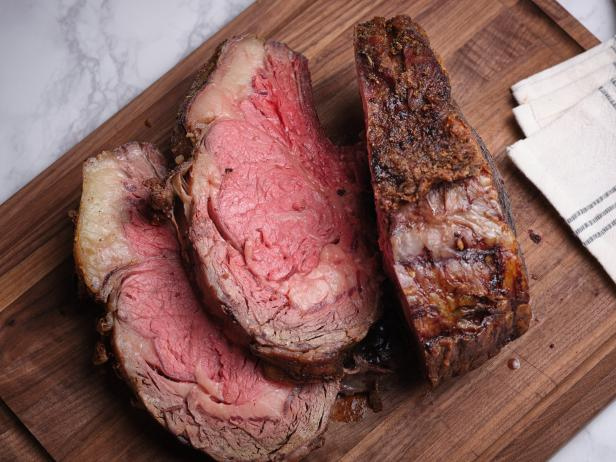prime_rib: (57, 15, 538, 456)
